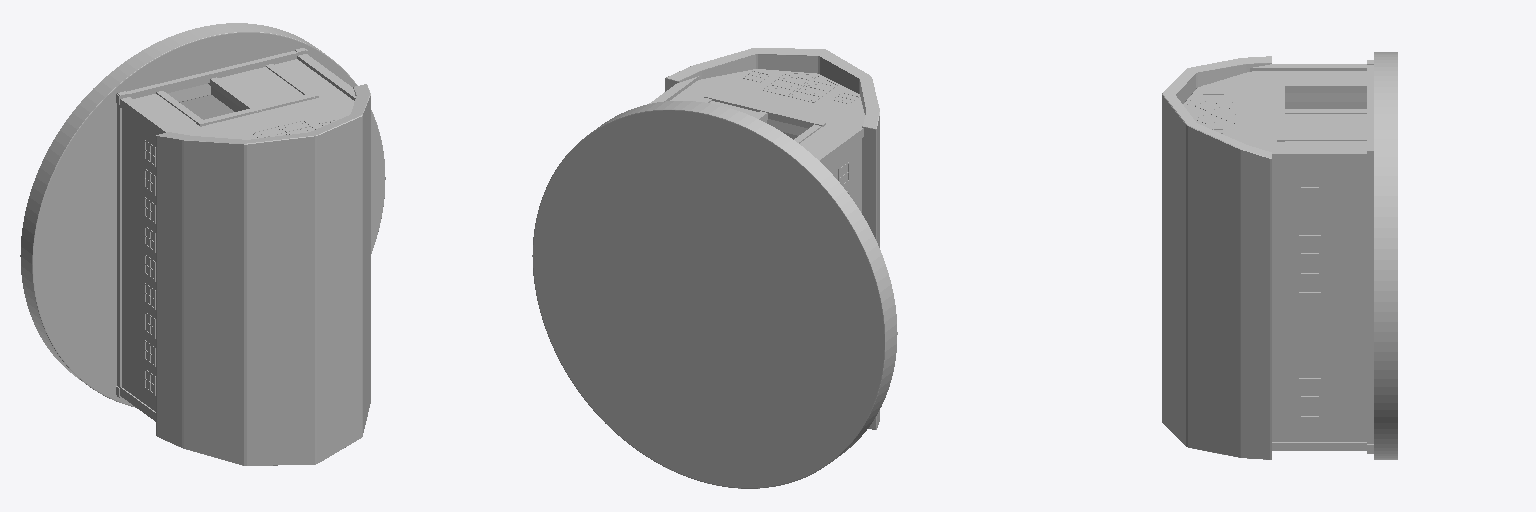
The model's file is barn.obj.
3 views of the same model, side by side, from view 1: azimuth 30°, elevation 25°; view 2: azimuth 150°, elevation 25°; view 3: azimuth 270°, elevation 25° (orthographic).
Visible parts, largest first — view 1: 20955_Barn_v2; view 2: 20955_Barn_v2; view 3: 20955_Barn_v2.
Part boxes in pixels (x1,y1,x2,y2): 20955_Barn_v2: (20,23,385,465); 20955_Barn_v2: (532,48,897,488); 20955_Barn_v2: (1162,52,1397,459).
Size of the model in its own units: 9.98 by 9.98 by 5.78.